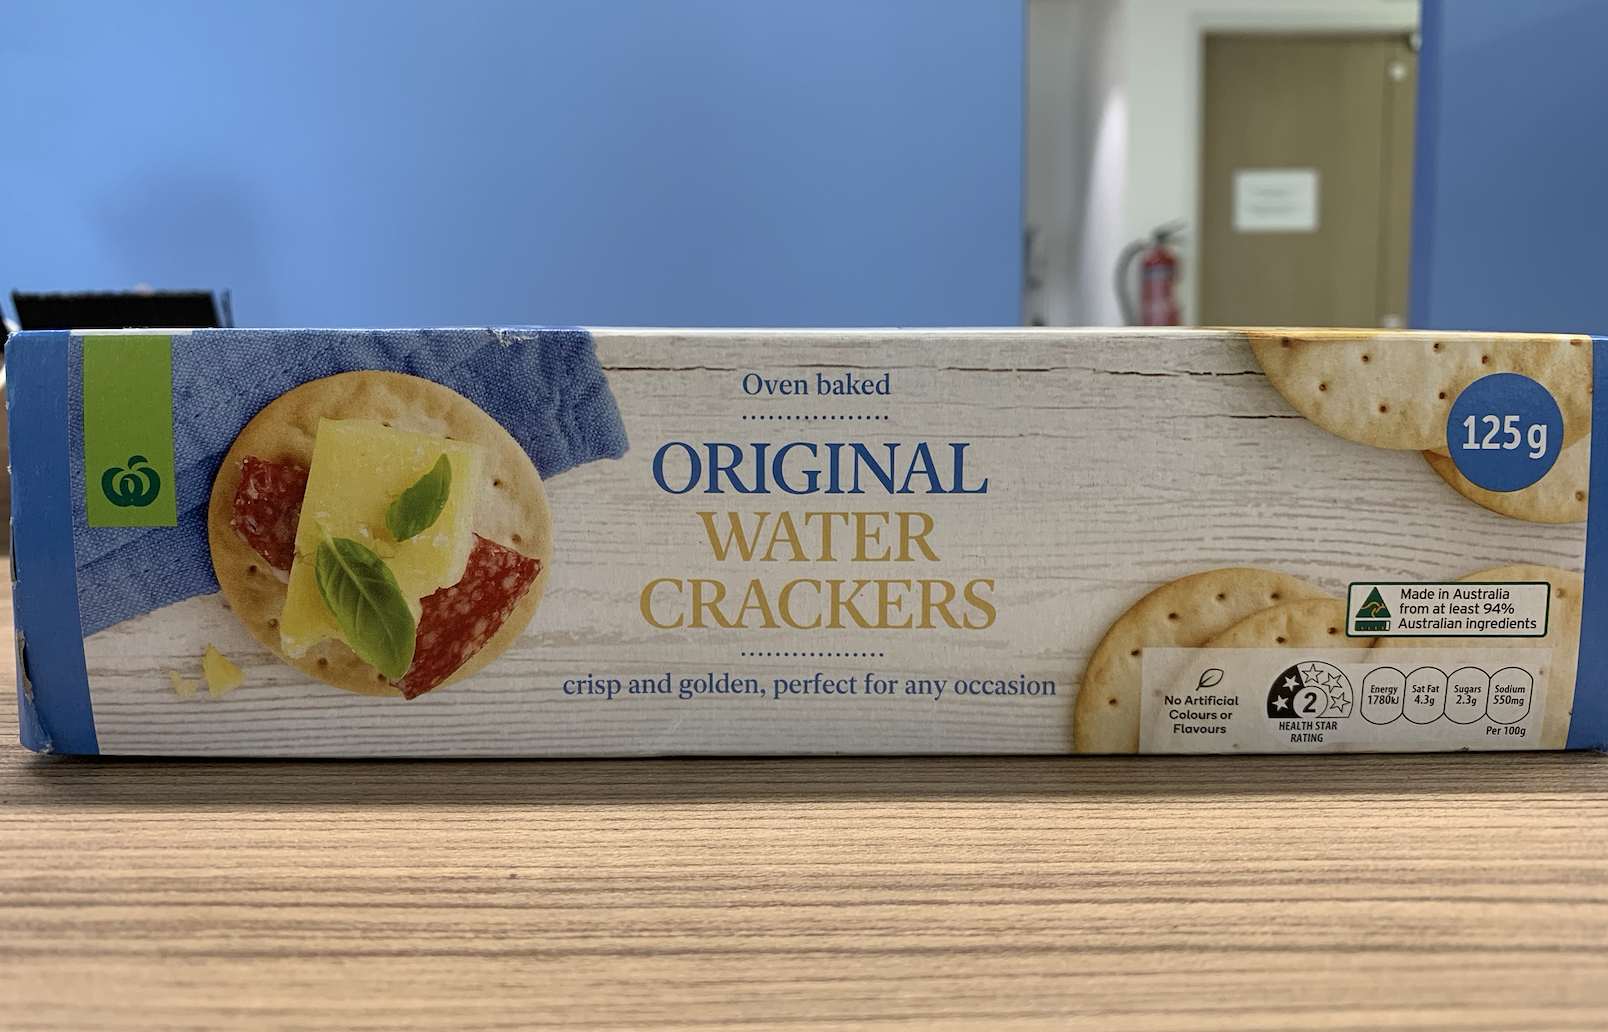crackers_150g: (60, 347, 1589, 747)
